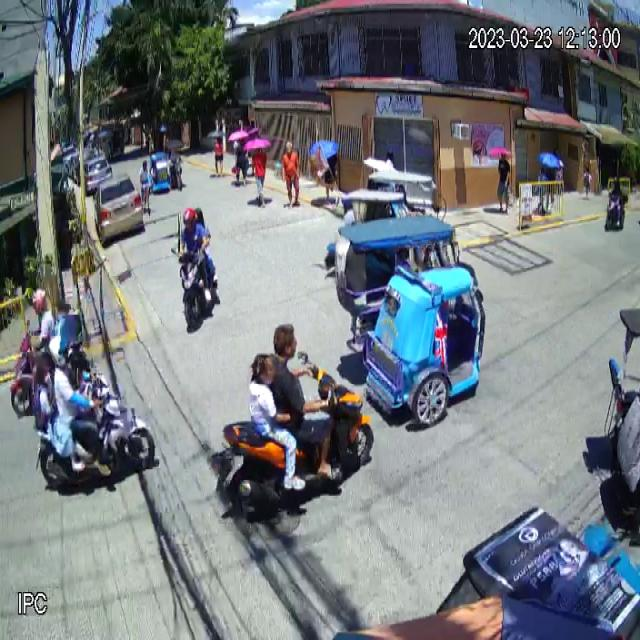Motorcycle: (208, 350, 374, 520), (36, 368, 156, 490), (171, 236, 221, 332)
Tricycle: (342, 216, 484, 422)
